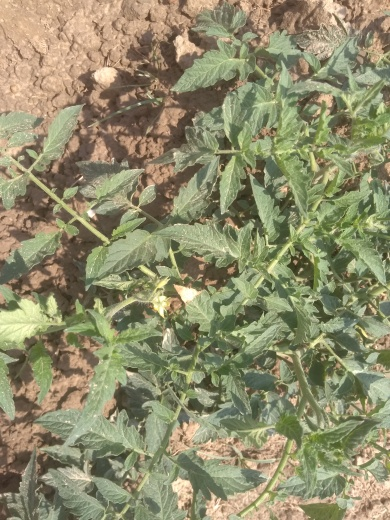tomato diseased leaf: (175, 282, 222, 325)
tomato flower: (144, 288, 174, 322)
tomato plant: (86, 33, 386, 511)
